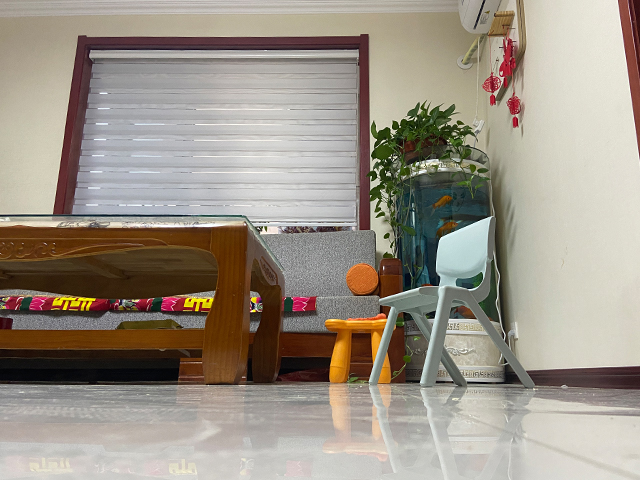sofa: (1, 228, 407, 385)
stool: (367, 213, 536, 389), (323, 316, 396, 385)
table: (1, 213, 288, 386)
